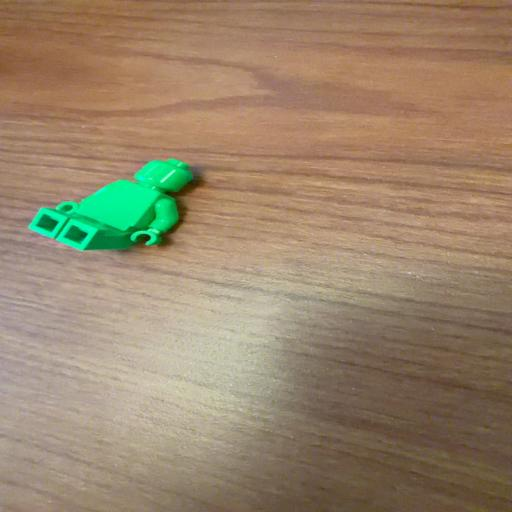UnoQ-minifig-detector: (29, 159, 194, 250)
